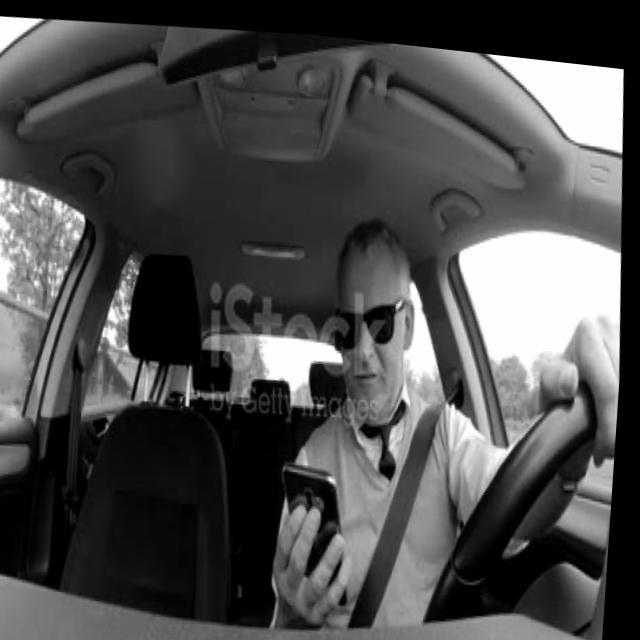PhoneCall: (278, 454, 364, 606)
